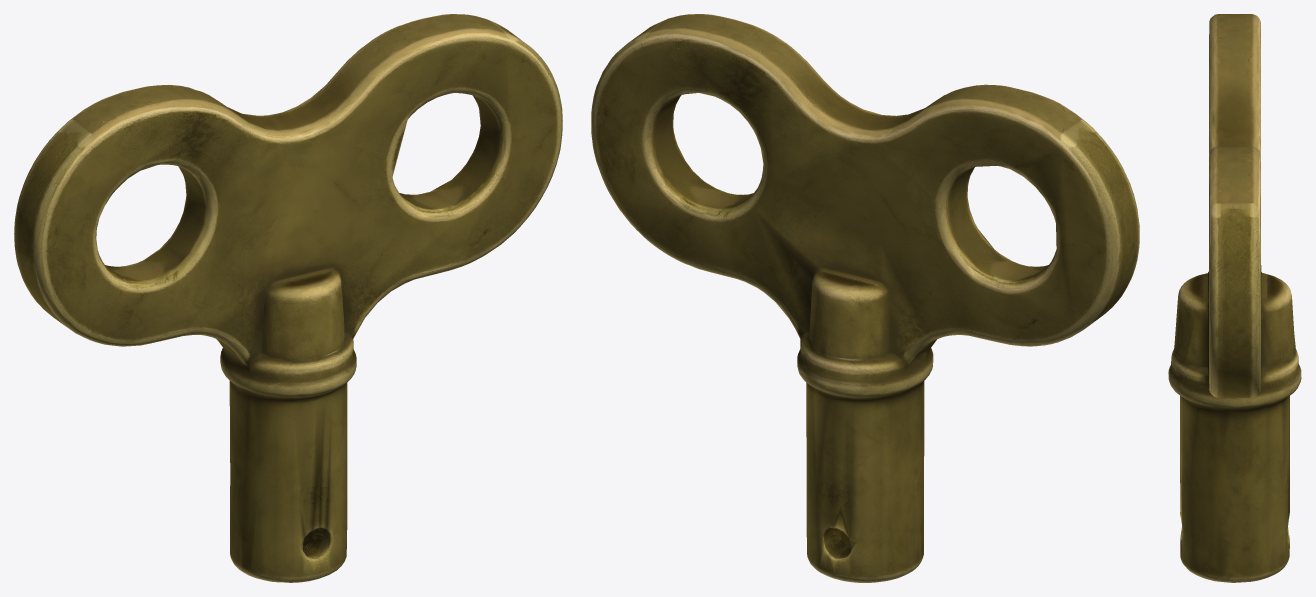
Rendered from Meshy_AI_Brass_Skeleton_Key_0630011053_texture.fbx.
3 renders of one model, left to right at view 1: azimuth 30°, elevation 25°; view 2: azimuth 150°, elevation 25°; view 3: azimuth 270°, elevation 25°, orthographic. The views are drawn at different scales.
Parts seen in each view (by area): view 1: Mesh_0; view 2: Mesh_0; view 3: Mesh_0.
Boxes of the visible parts, x1,y1,x2,y2 form: Mesh_0: (14,14,562,582); Mesh_0: (591,14,1139,582); Mesh_0: (1168,14,1301,582).
Bounding box in the file's own units: 191 × 173 × 44.53.
1 material, 1 textured.
